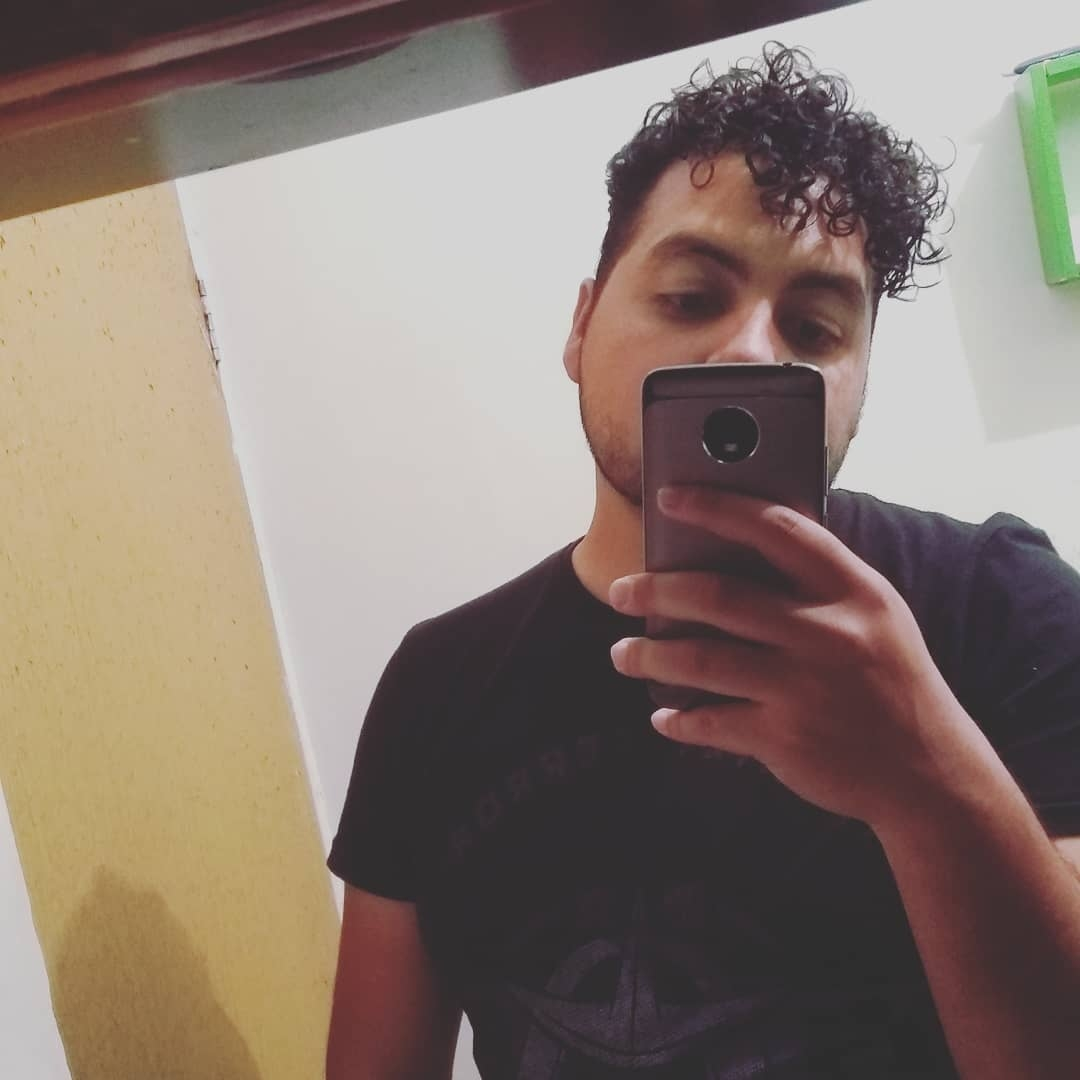Yoshi: (369, 40, 985, 791)
